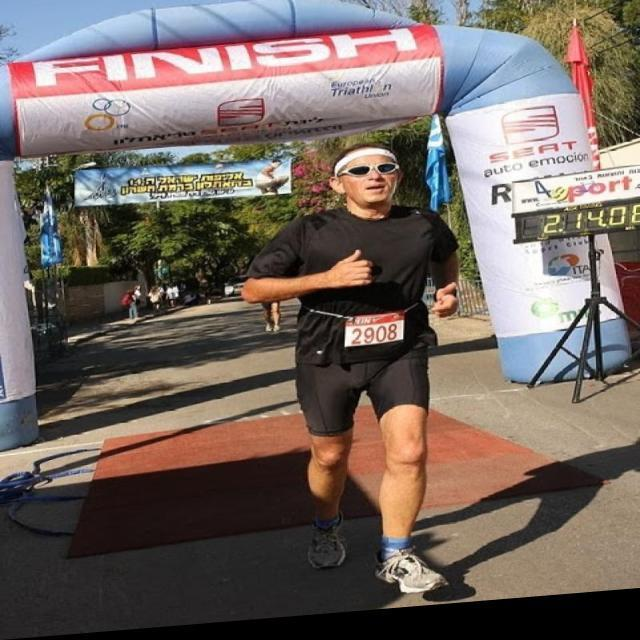dorsal: (344, 317, 407, 354)
